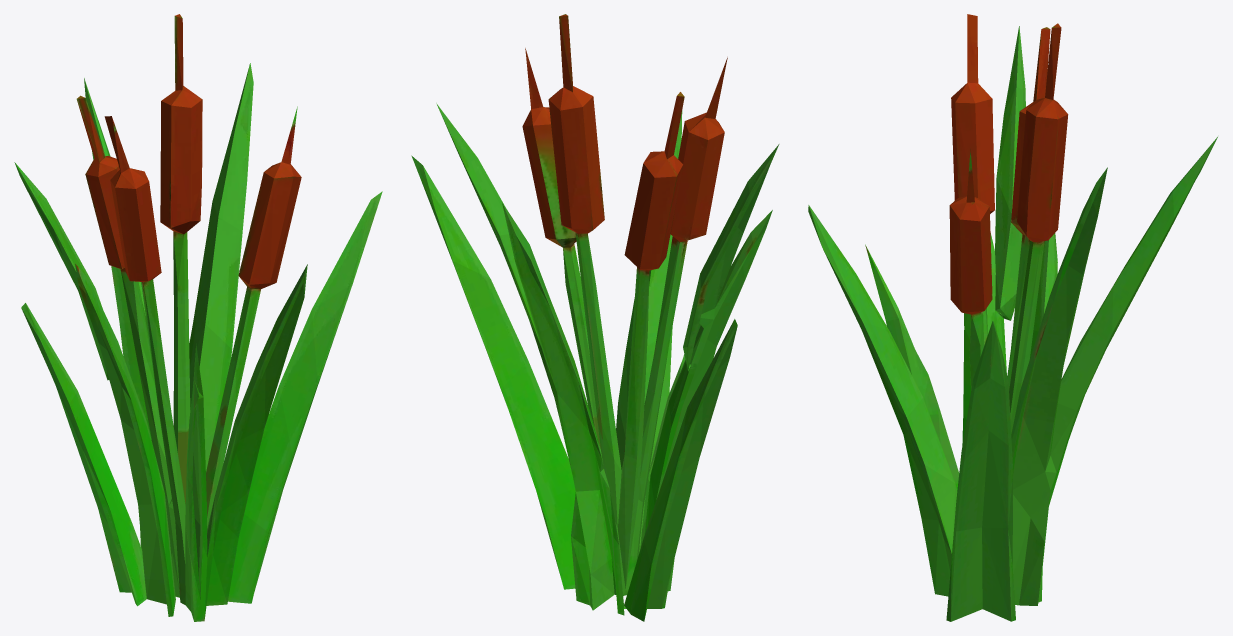
File: cattail_plant.glb
The picture shows the model from 3 angles, left to right: view 1: azimuth 30°, elevation 25°; view 2: azimuth 150°, elevation 25°; view 3: azimuth 270°, elevation 25°; orthographic projection. The views are drawn at different scales.
Size of the model in its own units: 1.32 by 1.98 by 1.25.
Materials: 1 (1 with a texture image).
